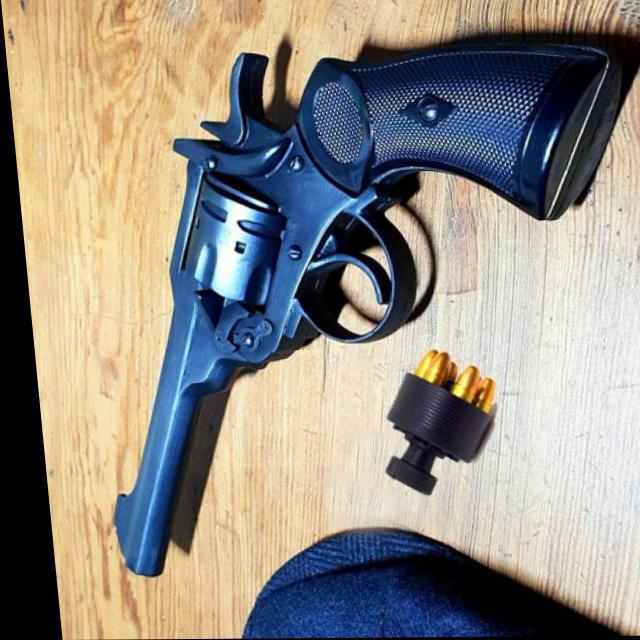handgun: (58, 32, 640, 574)
